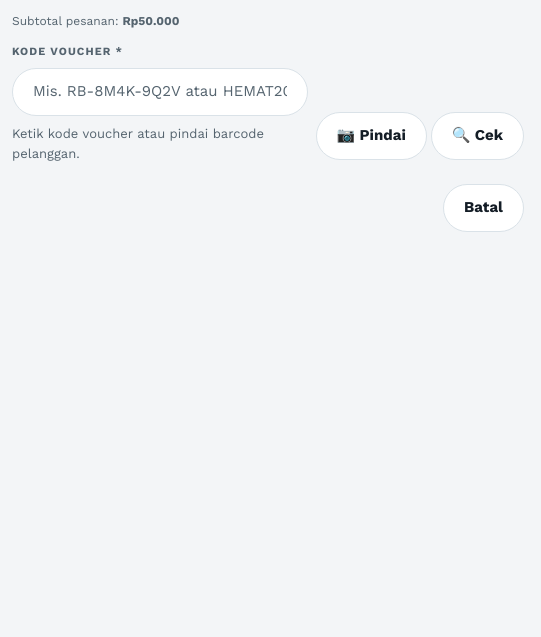
Test case: Integrasi ScanVoucher pada VoucherKasir (T8-10) › kasir dapat membatalkan scan dan kembali ke tampilan awal voucher kasir
Step 1. Click the button with aria-label "Buka scan kamera" → {"x": 371, "y": 136}, box [316,112,427,160]
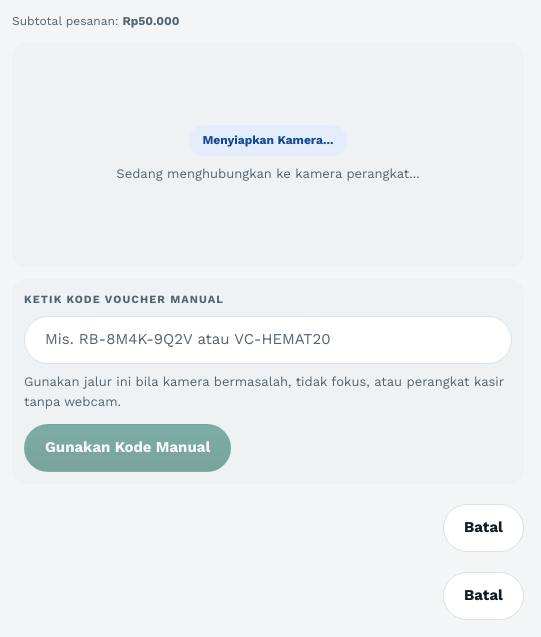
Result: the element with test id "scan-voucher" is shown
# Klik tombol Batal di pemindai
Step 2. Click the button with aria-label "Batal scan" → {"x": 484, "y": 528}, box [443,504,524,552]
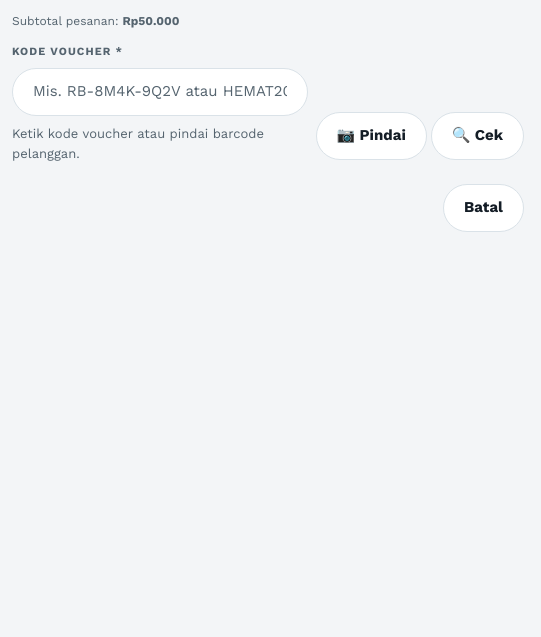
Result: the element with test id "scan-voucher" is gone
Result: the field labelled "Kode voucher *" is shown at [12,68,308,116]
